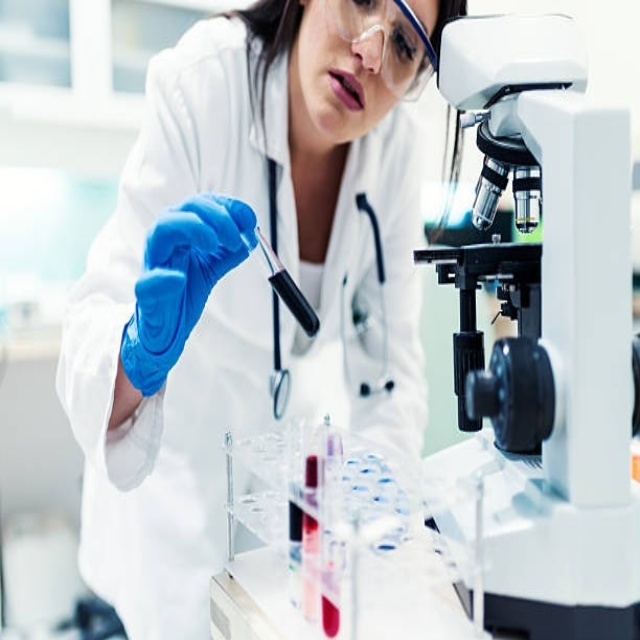Gafas: (319, 2, 441, 108)
Guantes: (121, 190, 260, 399)
Sin_mascara: (312, 55, 373, 133)
